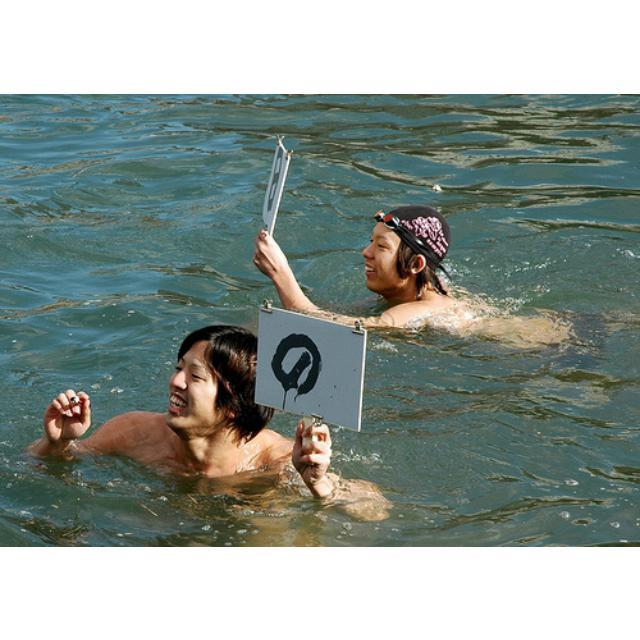human: (33, 321, 382, 519), (252, 197, 592, 358)
